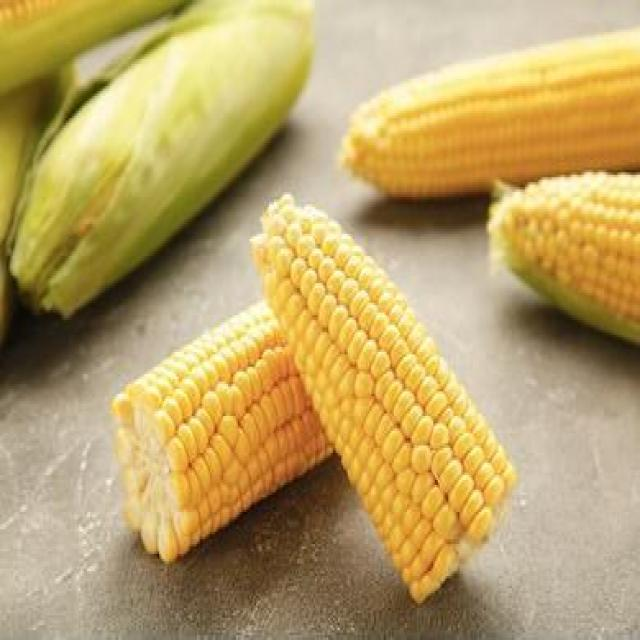Corn ear: (278, 208, 502, 602), (336, 20, 640, 192), (114, 316, 290, 563), (515, 165, 640, 327)
